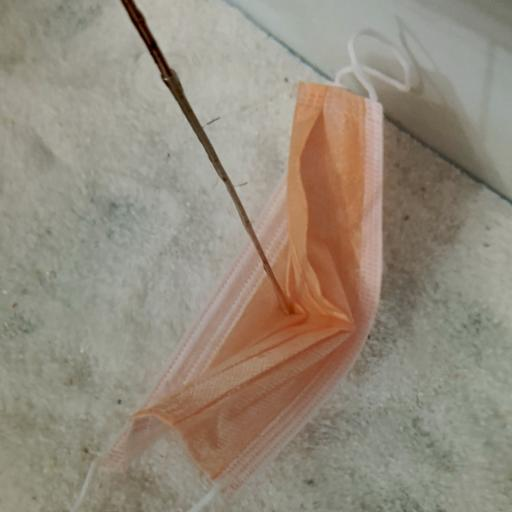mask: (91, 23, 416, 512)
